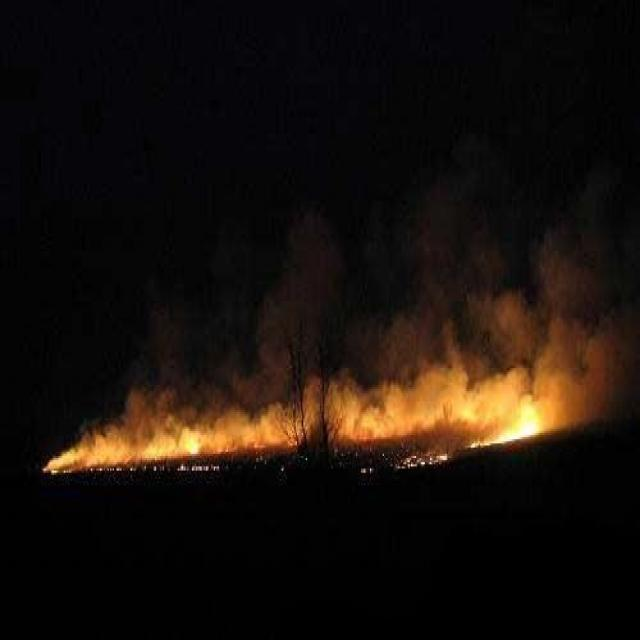fire: (44, 356, 552, 466)
